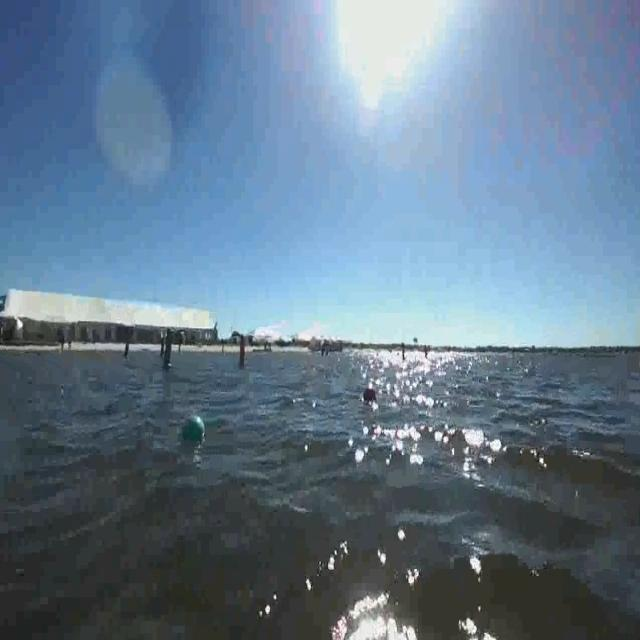green-buoy: (183, 417, 206, 442)
green-column-buoy: (162, 328, 174, 370)
red-column-buoy: (238, 335, 248, 372), (361, 381, 377, 403)
